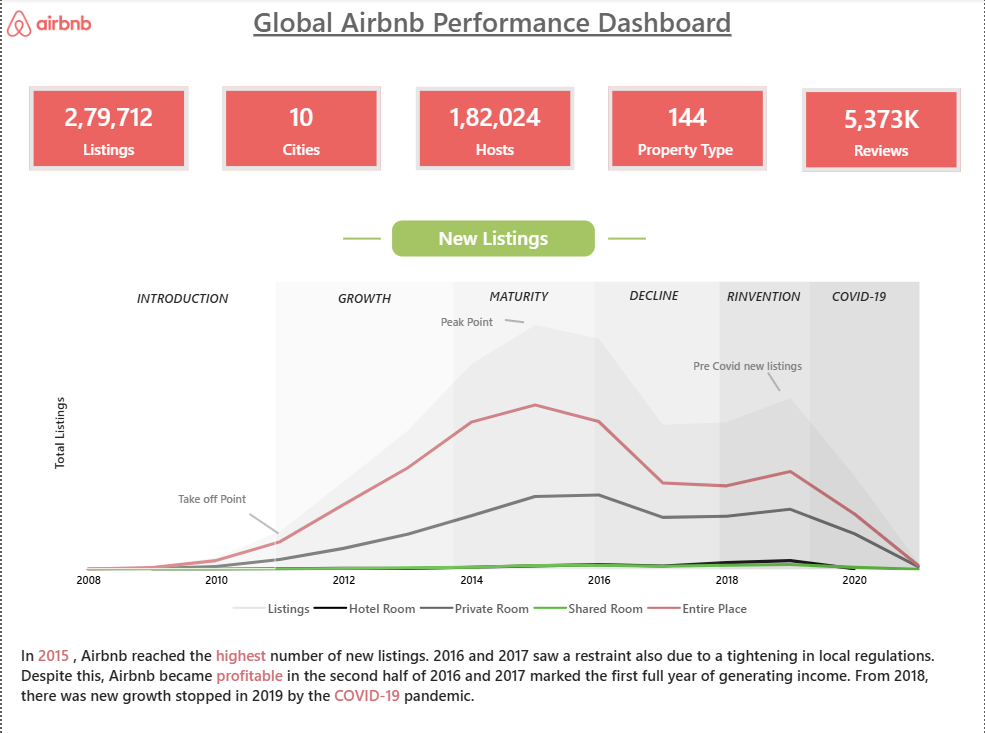

The page's visual inventory and layout, read from the dashboard file:
{"tool":"powerbi","page":{"name":"Overview","canvas":[960,720],"ordinal":0},"visuals":[{"type":"textbox","box":[240.9,0,478.1,51.4],"z":0},{"type":"image","box":[0,12.2,91.7,25.7],"z":1000},{"type":"card","fields":{"Values":["CountNonNull(Listings.listing_id)"]},"box":[26.7,86.8,155.3,81.9],"z":2000},{"type":"card","fields":{"Values":["Count(Listings.host_id)"]},"box":[404.5,86.8,155.3,81.9],"z":3000},{"type":"card","fields":{"Values":["Count(Reviews.review_id)"]},"box":[782.4,88,155.3,81.9],"z":4000},{"type":"card","fields":{"Values":["Count(Listings.city)"]},"box":[215.6,86.8,155.3,81.9],"z":5000},{"type":"card","fields":{"Values":["Count(Listings.property_type)"]},"box":[593.4,86.8,155.3,81.9],"z":6000},{"type":"lineChart","fields":{"Category":["Listings.host_since.Variation.Date Hierarchy.Year"],"Y":["CountNonNull(Listings.listing_id)","Listings.Hotel Room","Listings.Private Room","Listings.Shared Room","Listings.Entire Place"]},"box":[46.5,278.8,867,336.3],"z":7000},{"type":"textbox","box":[381,217.7,198.1,35.5],"z":8000},{"type":"shape","box":[333.8,211.6,36.7,47.7],"z":9000},{"type":"shape","box":[593.1,211.6,36.7,47.7],"z":10000},{"type":"textbox","box":[13.5,627.3,933,69.7],"z":11000},{"type":"shape","box":[79.5,277.6,188.3,281.3],"z":12000},{"type":"textbox","box":[103.9,278.8,145.5,30.6],"z":13000},{"type":"shape","box":[267.8,277.6,173.6,281.3],"z":14000},{"type":"textbox","box":[317.9,278.8,73.4,28.1],"z":15000},{"type":"shape","box":[441.4,277.6,138.2,281.3],"z":16000},{"type":"textbox","box":[472,277.6,77,28.1],"z":17000},{"type":"shape","box":[579.6,277.6,122.3,281.3],"z":18000},{"type":"textbox","box":[609,276.4,62.4,29.3],"z":19000},{"type":"shape","box":[701.9,277.6,88,281.3],"z":20000},{"type":"textbox","box":[704.4,277.6,81.9,28.1],"z":21000},{"type":"shape","box":[789.9,277.6,107.6,281.3],"z":22000},{"type":"textbox","box":[807.1,277.6,73.4,28.1],"z":23000},{"type":"shape","box":[240.9,503.8,30.6,20.8],"z":24000},{"type":"textbox","box":[167.5,474.5,95.4,29.3],"z":25000},{"type":"shape","box":[491.6,309.4,19.6,13.5],"z":26000},{"type":"textbox","box":[424.3,302,67.3,29.3],"z":27000},{"type":"textbox","box":[671.3,344.8,129.6,29.3],"z":28000},{"type":"shape","box":[748.4,363.2,13.5,24.5],"z":29000}]}

Visuals, with their boxes in screenshot pixels (x1, y1, x2, y2), scaled from the page's 960x720 canvas onto the 985x733 screenshot:
textbox: detection(247, 0, 738, 52)
image: detection(0, 12, 94, 39)
card - CountNonNull(Listings.listing_id): detection(27, 88, 187, 172)
card - Count(Listings.host_id): detection(415, 88, 574, 172)
card - Count(Reviews.review_id): detection(803, 90, 962, 173)
card - Count(Listings.city): detection(221, 88, 381, 172)
card - Count(Listings.property_type): detection(609, 88, 768, 172)
lineChart - Listings.host_since.Variation.Date Hierarchy.Year x CountNonNull(Listings.listing_id): detection(48, 284, 937, 626)
textbox: detection(391, 222, 594, 258)
shape: detection(342, 215, 380, 264)
shape: detection(609, 215, 646, 264)
textbox: detection(14, 639, 971, 710)
shape: detection(82, 283, 275, 569)
textbox: detection(107, 284, 256, 315)
shape: detection(275, 283, 453, 569)
textbox: detection(326, 284, 401, 312)
shape: detection(453, 283, 595, 569)
textbox: detection(484, 283, 563, 311)
shape: detection(595, 283, 720, 569)
textbox: detection(625, 281, 689, 311)
shape: detection(720, 283, 810, 569)
textbox: detection(723, 283, 807, 311)
shape: detection(810, 283, 921, 569)
textbox: detection(828, 283, 903, 311)
shape: detection(247, 513, 279, 534)
textbox: detection(172, 483, 270, 513)
shape: detection(504, 315, 525, 329)
textbox: detection(435, 307, 504, 337)
textbox: detection(689, 351, 822, 381)
shape: detection(768, 370, 782, 395)
